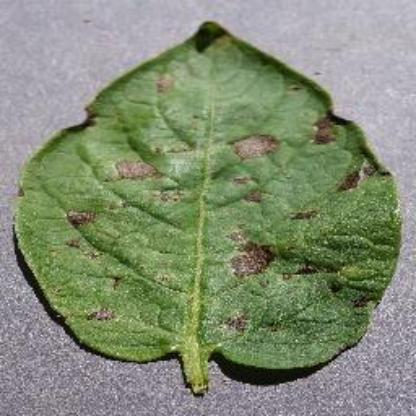Early-Blight: (12, 20, 406, 392)
